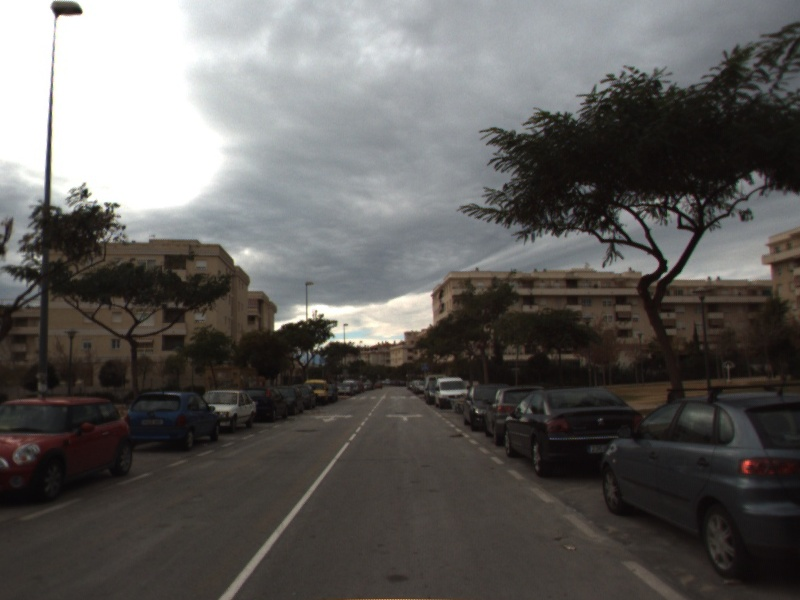LEFT_RIGHT: (384, 411, 427, 423)
